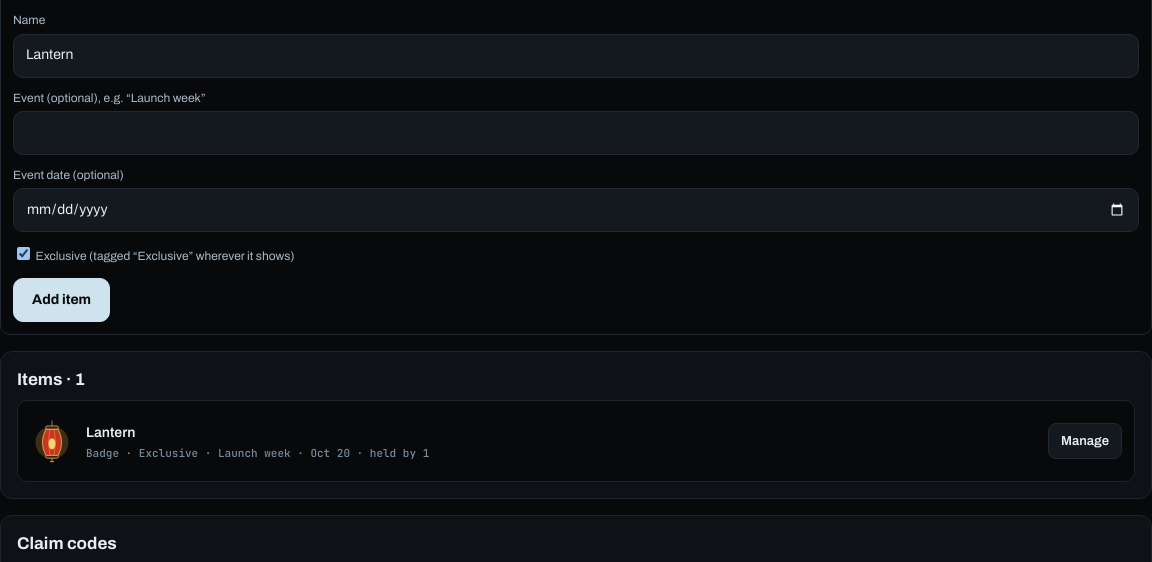
Test case: Owner console → Rewards (T67) › gives an item by username, revokes with a reason, and shows a new code and link once
(page scrolled)
Click the button with aria-label "Manage: Lantern" at (1085, 441), box left=1048, top=423, right=1122, bottom=459
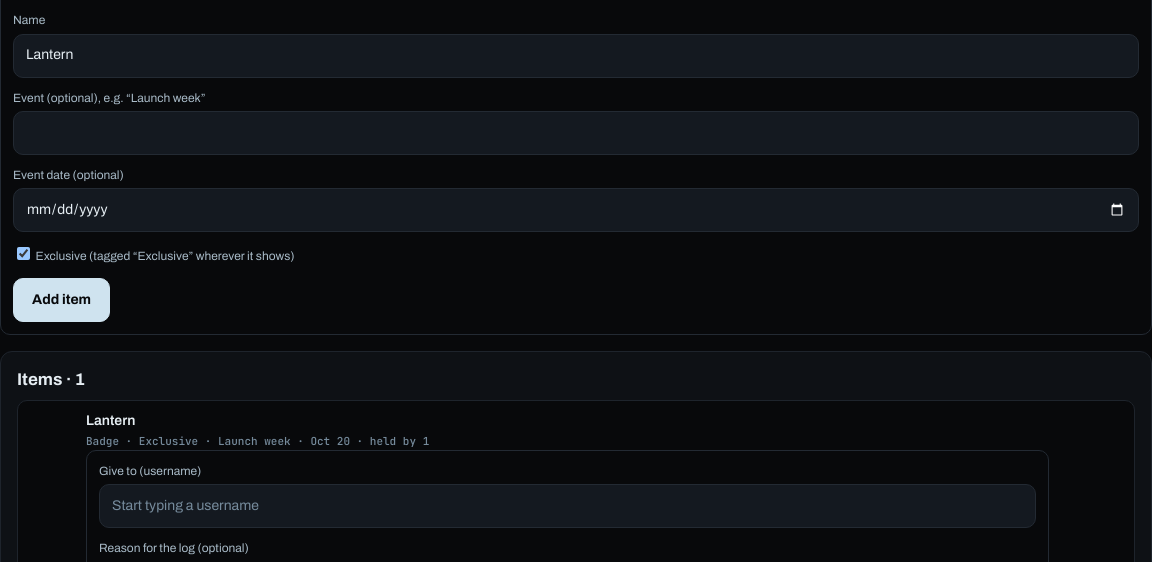
Type "mira" into the field labelled "Give to (username)" at (568, 506), box left=99, top=484, right=1036, bottom=528
(page scrolled)
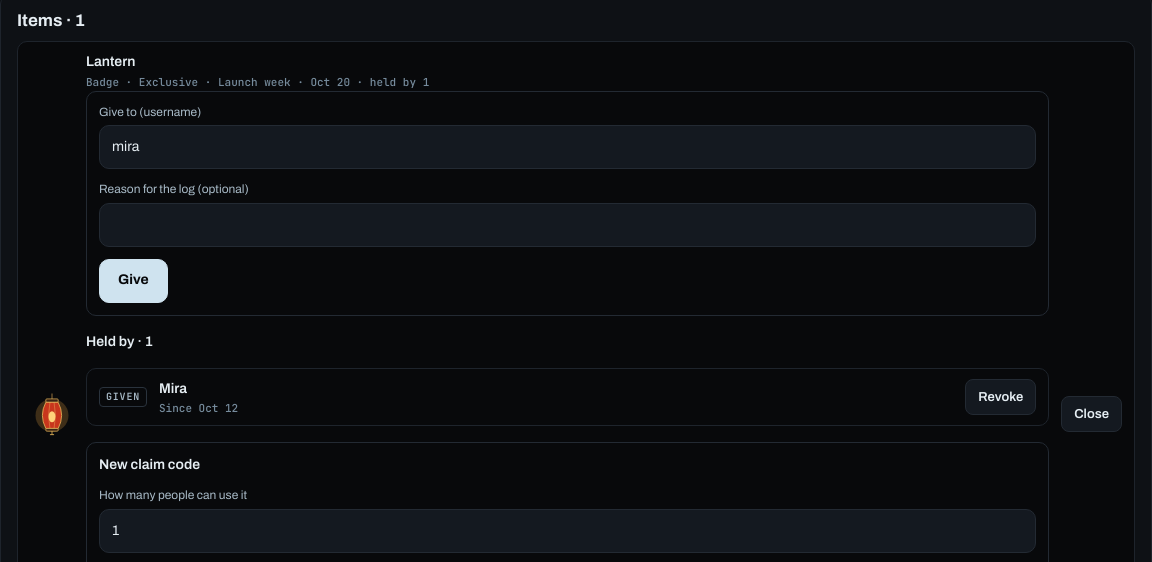
Click the button "Give" at (133, 280), box left=99, top=258, right=168, bottom=302
(page scrolled)
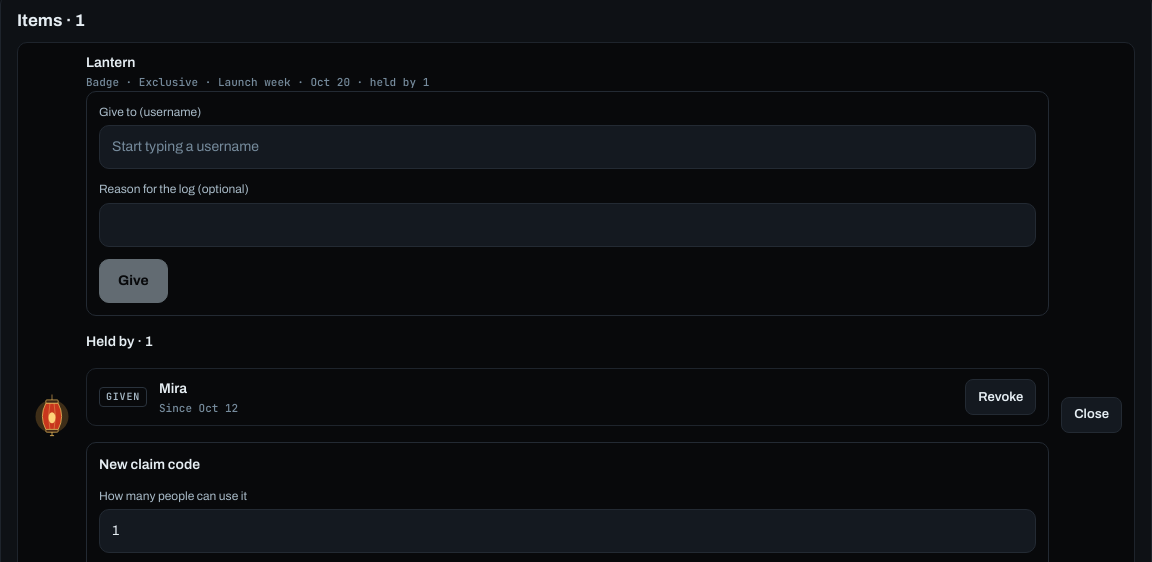
Click the button with aria-label "Revoke from Mira" at (1001, 397), box left=965, top=379, right=1036, bottom=415
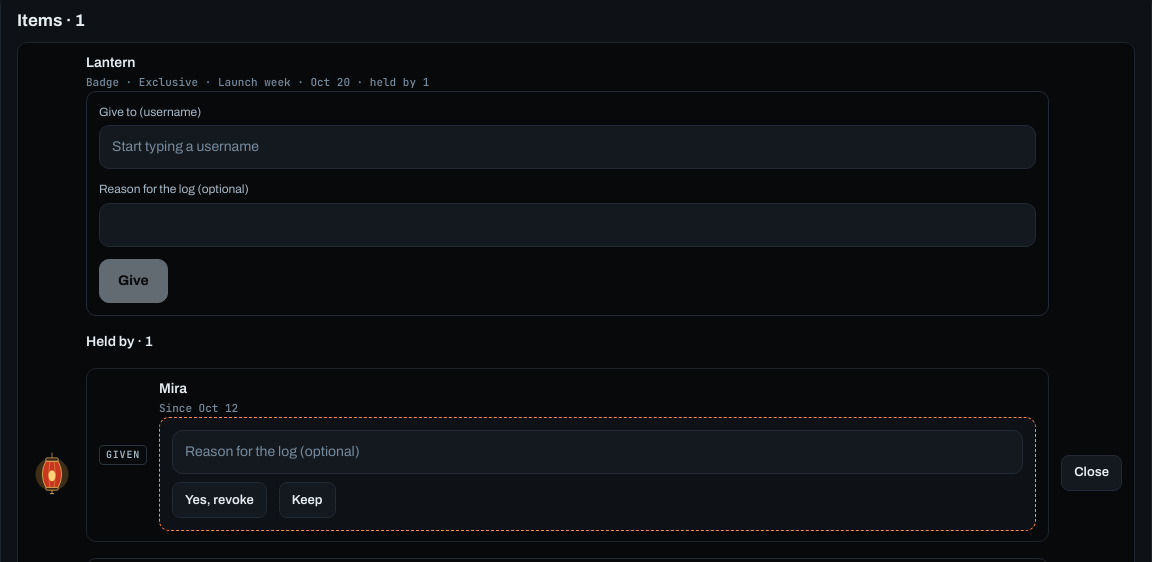
Type "mistake" into the field named "Reason for revoking" at (598, 452), box left=172, top=430, right=1023, bottom=474
Click the button "Yes, revoke" at (219, 500), box left=172, top=482, right=267, bottom=518
(page scrolled)
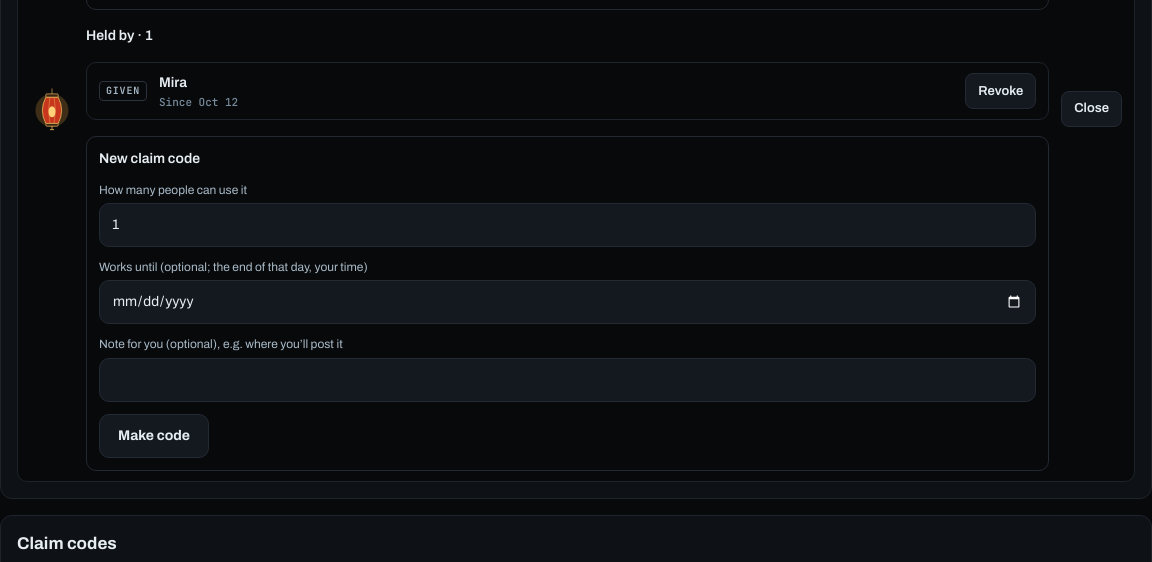
Click the button "Make code" at (154, 436), box left=99, top=414, right=209, bottom=458
(page scrolled)
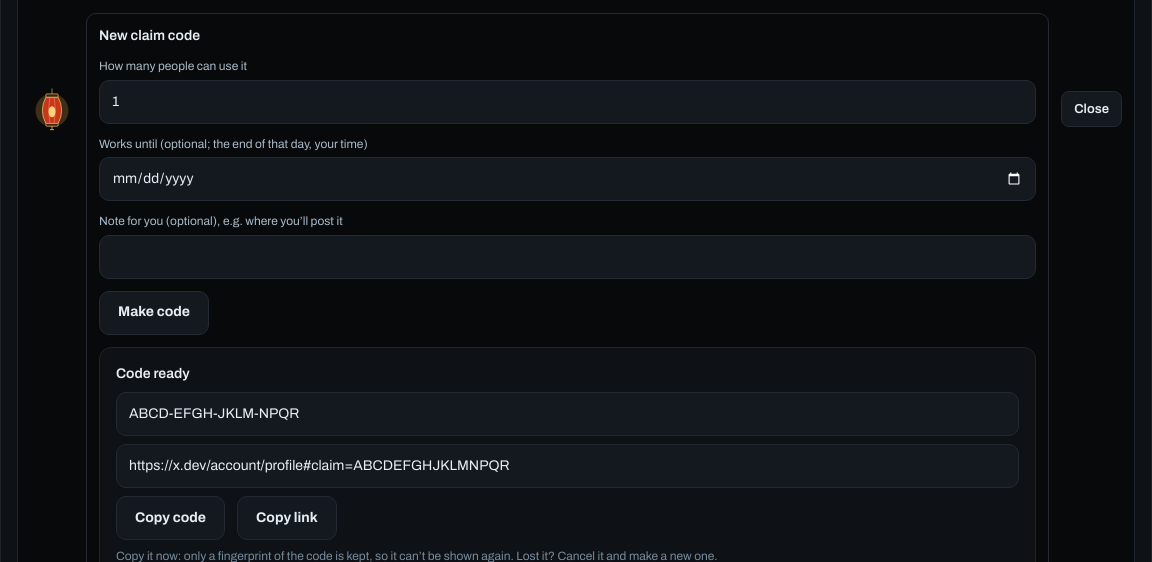
Expected: the field named "Claim code" holds "ABCD-EFGH-JKLM-NPQR", left=116, top=392, right=1019, bottom=436
Expected: the field named "Claim link" holds "https://x.dev/account/profile#claim=ABCDEFGHJKLMNPQR", left=116, top=444, right=1019, bottom=488
